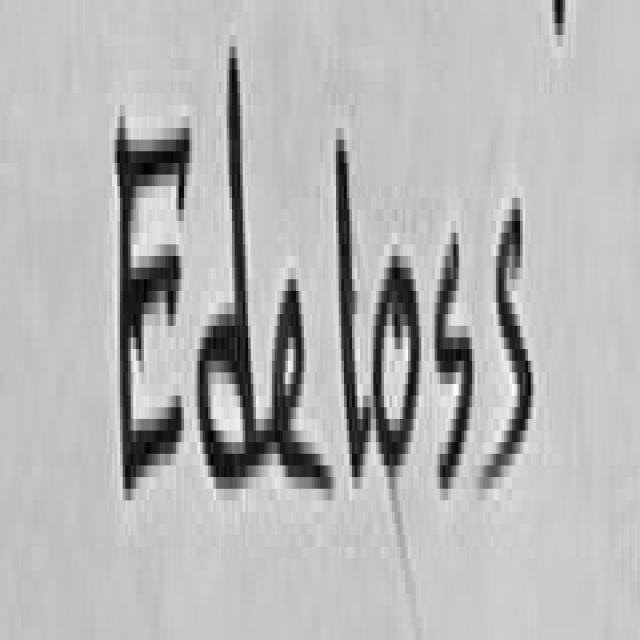E: (117, 116, 189, 489)
d: (200, 47, 269, 477)
e: (275, 279, 333, 489)
l: (339, 140, 371, 477)
o: (376, 256, 421, 477)
s: (483, 198, 533, 483), (437, 233, 475, 489)
